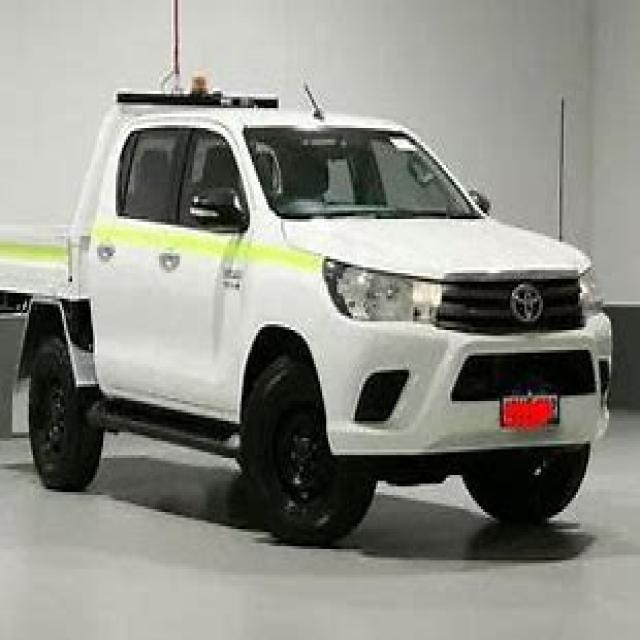light_vehicle: (0, 59, 621, 543)
